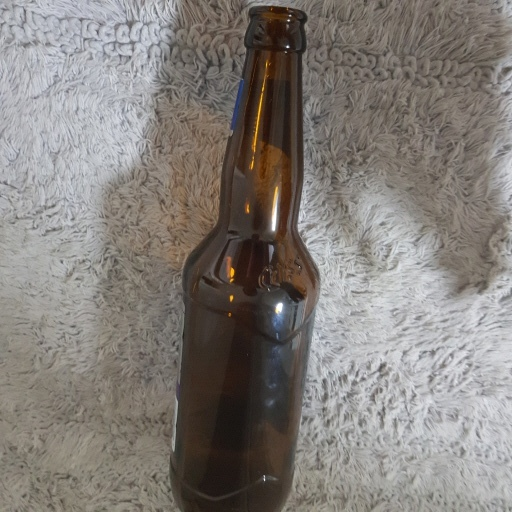Glass_1: (171, 6, 322, 512)
